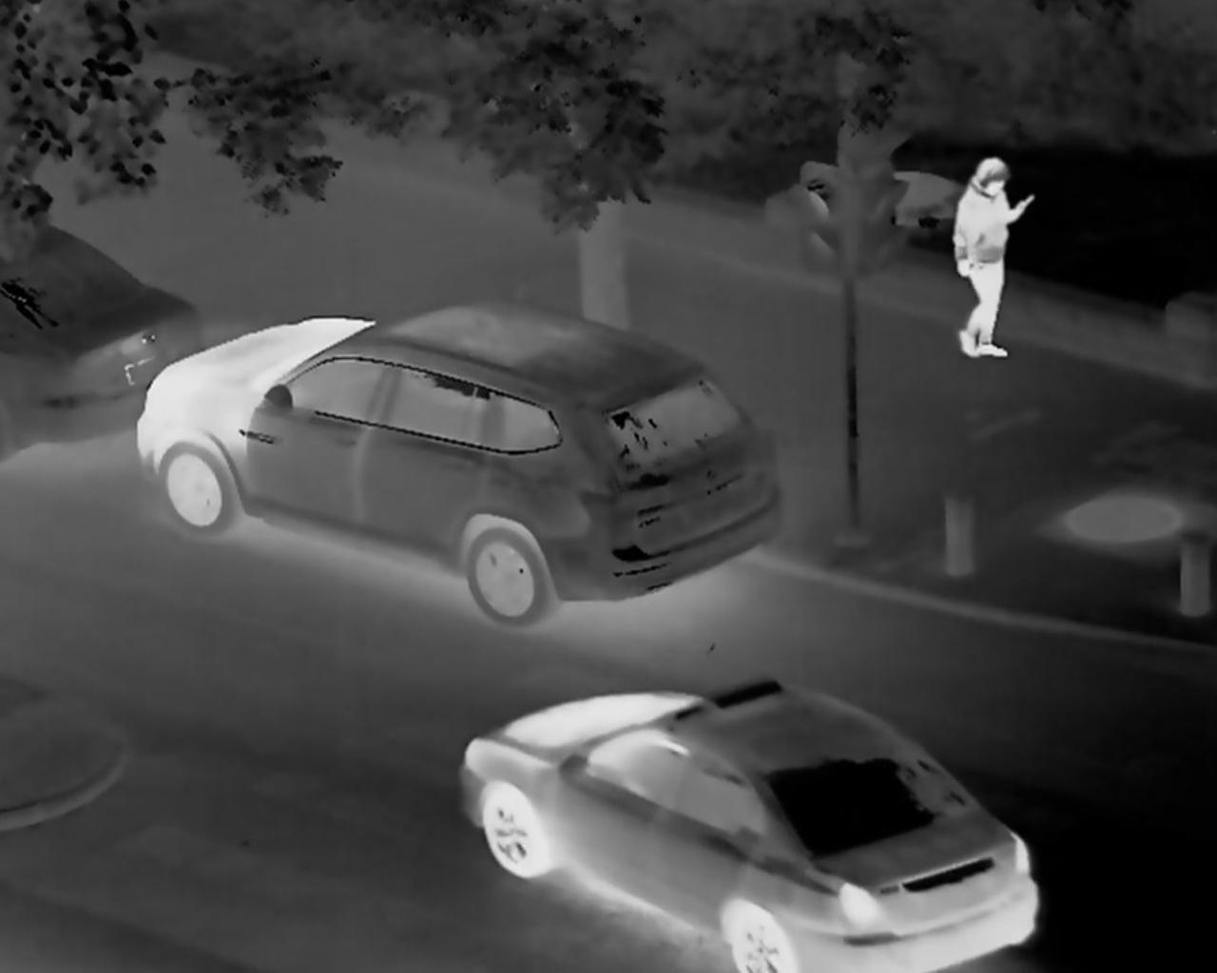person: (950, 162, 1049, 382)
